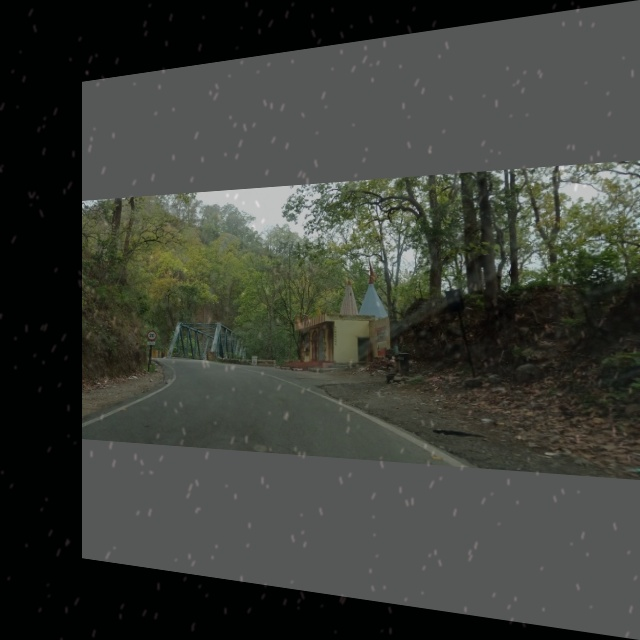Speed_Limit_20: (146, 327, 159, 342)
